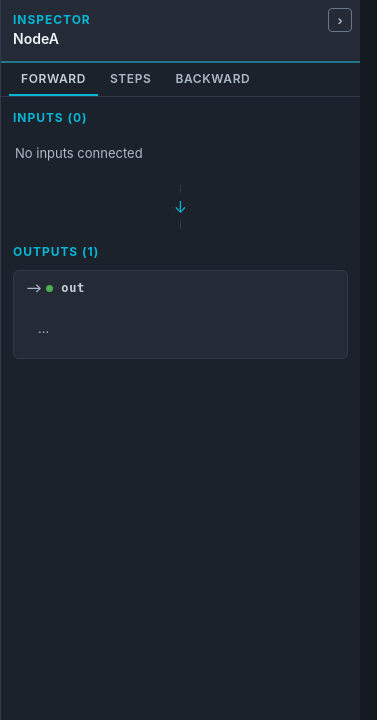
InspectorPanel — single node mode › switches to the Backward tab and renders BackwardView
Click the tab "Backward": (213,79) [163,63,262,96]
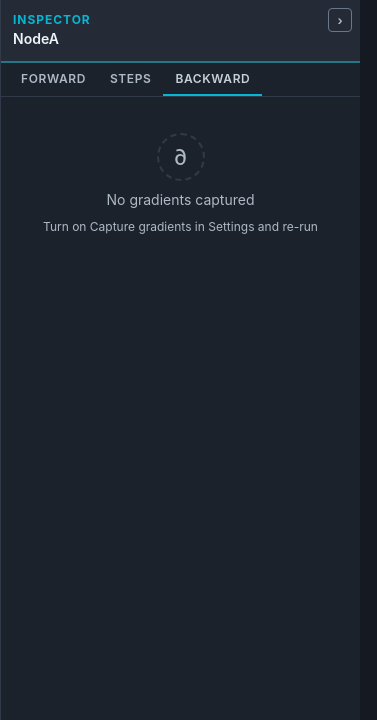
expect the text "No gradients captured" is shown: met, box [106,189,254,210]
